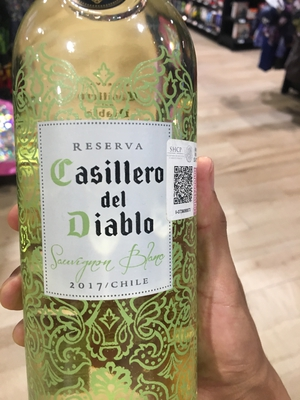casillero del diablo sauvignon blanc: (8, 12, 203, 400)
